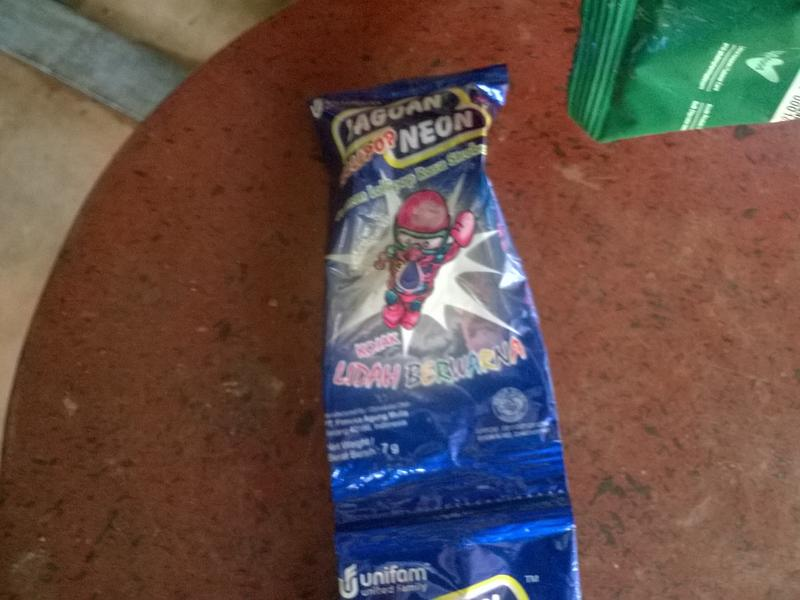jagoan neon: (307, 62, 568, 521)
